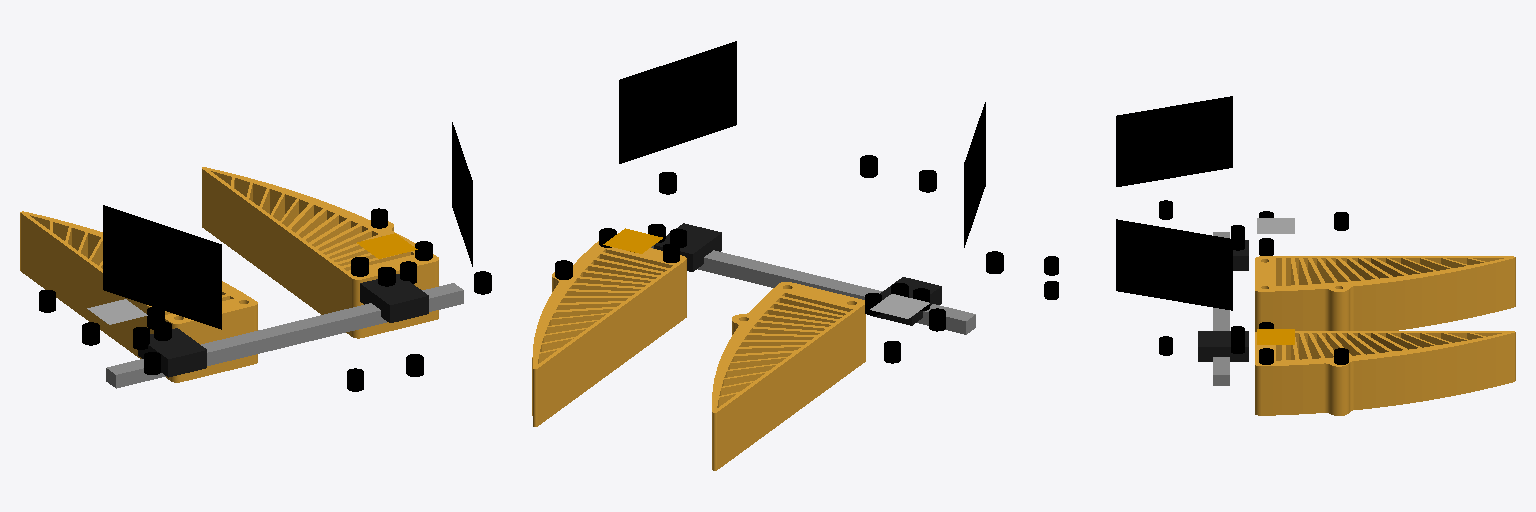
robot.urdf — umi_gripper:
<?xml version="1.0"?>
<robot name="umi_gripper">
  <material name="mirror">
    <color rgba="0 0 0 1"/>
  </material>
  <material name="white">
    <color rgba="1 1 1 1"/>
  </material>
  <material name="gray">
    <color rgba="0.15 0.15 0.15 1"/>
  </material>
  <material name="light_gray">
    <color rgba="0.6 0.6 0.6 1"/>
  </material>
  <material name="orange">
    <color rgba="0.92 0.68 0.24 1"/>
  </material>
  <material name="black">
    <color rgba="0 0 0 1"/>
  </material>
  <link name="world">
  </link>
  <link name="body1">
    <visual name="linear_guide_rail">
      <origin xyz="0 -0.002 0.062" rpy="0 0 0"/>
      <geometry>
        <box size="0.16 0.006 0.008"/>
      </geometry>
      <material name="light_gray"/>
    </visual>
    <visual name="left_mirror">
      <origin xyz="-0.069 -0.057 0.04" rpy="0 1.1901519891862662 0"/>
      <geometry>
        <box size="0.06 0.0374 0.0002"/>
      </geometry>
      <material name="mirror"/>
    </visual>
    <visual name="right_mirror">
      <origin xyz="0.069 -0.057 0.04" rpy="0 -1.1901519891862662 0"/>
      <geometry>
        <box size="0.06 0.0374 0.0002"/>
      </geometry>
      <material name="mirror"/>
    </visual>
    <visual>
      <geometry>
        <mesh filename="meshes/base_link.stl"/>
      </geometry>
      <material name="white"/>
    </visual>
    <visual name="left_center_base_screw">
      <origin xyz="-0.076 -0.018 0.036" rpy="-1.5707963267948968 0 0"/>
      <geometry>
        <cylinder radius="0.0035" length="0.007"/>
      </geometry>
      <material name="black"/>
    </visual>
    <visual name="right_center_base_screw">
      <origin xyz="0.076 -0.018 0.036" rpy="-1.5707963267948968 0 0"/>
      <geometry>
        <cylinder radius="0.0035" length="0.007"/>
      </geometry>
      <material name="black"/>
    </visual>
    <visual name="left_back_base_screw">
      <origin xyz="-0.0137 -0.018 -0.018" rpy="-1.5707963267948968 0 0"/>
      <geometry>
        <cylinder radius="0.0035" length="0.007"/>
      </geometry>
      <material name="black"/>
    </visual>
    <visual name="right_back_base_screw">
      <origin xyz="0.0137 -0.018 -0.018" rpy="-1.5707963267948968 0 0"/>
      <geometry>
        <cylinder radius="0.0035" length="0.007"/>
      </geometry>
      <material name="black"/>
    </visual>
    <visual>
      <origin xyz="0.01965 -0.07875 -0.0187" rpy="-1.5707963267948968 0 3.141592653589793"/>
      <geometry>
        <mesh filename="meshes/gopro.stl"/>
      </geometry>
      <material name="gray"/>
    </visual>
    <collision>
      <geometry>
        <mesh filename="meshes/base_link.stl"/>
      </geometry>
    </collision>
    <collision>
      <origin xyz="0.01965 -0.07875 -0.0187" rpy="-1.5707963267948968 0 3.141592653589793"/>
      <geometry>
        <mesh filename="meshes/gopro.stl"/>
      </geometry>
    </collision>
  </link>
  <link name="body1_dof1">
  </link>
  <link name="body1_dof2">
  </link>
  <link name="body1_dof3">
  </link>
  <link name="body1_dof4">
  </link>
  <link name="body1_dof5">
  </link>
  <link name="left_finger_holder">
    <inertial>
      <origin xyz="-0.0613355 0.104073 -0.0013157" rpy="-1.1769009428563746 -1.3849810823943285 2.651450192417947"/>
      <mass value="0.080081"/>
      <inertia ixx="0.000104597" ixy="0" ixz="0" iyy="0.000102992" iyz="0" izz="0.0000190532"/>
    </inertial>
    <visual name="left_screw_back_outside">
      <origin xyz="-0.0515 0.07 0.012" rpy="0 0 0"/>
      <geometry>
        <cylinder radius="0.0035" length="0.007"/>
      </geometry>
      <material name="black"/>
    </visual>
    <visual name="left_screw_back_inside">
      <origin xyz="-0.0615 0.07 0.012" rpy="0 0 0"/>
      <geometry>
        <cylinder radius="0.0035" length="0.007"/>
      </geometry>
      <material name="black"/>
    </visual>
    <visual name="left_screw_middle_outside">
      <origin xyz="-0.0768 0.0835 0.012" rpy="0 0 0"/>
      <geometry>
        <cylinder radius="0.0035" length="0.007"/>
      </geometry>
      <material name="black"/>
    </visual>
    <visual name="left_screw_middle_inside">
      <origin xyz="-0.047 0.0835 0.012" rpy="0 0 0"/>
      <geometry>
        <cylinder radius="0.0035" length="0.007"/>
      </geometry>
      <material name="black"/>
    </visual>
    <visual name="left_screw_front">
      <origin xyz="-0.0764 0.119 0.012" rpy="0 0 0"/>
      <geometry>
        <cylinder radius="0.0035" length="0.007"/>
      </geometry>
      <material name="black"/>
    </visual>
    <visual name="left_rail_block">
      <origin xyz="-0.051 0.063 0.006" rpy="0 0 0"/>
      <geometry>
        <box size="0.018 0.024 0.008"/>
      </geometry>
      <material name="gray"/>
    </visual>
    <visual name="left_marker">
      <origin xyz="-0.062 0.088 0.0164" rpy="0 0 0"/>
      <geometry>
        <box size="0.018 0.018 0.00002"/>
      </geometry>
    </visual>
    <visual>
      <geometry>
        <mesh filename="meshes/left_finger_holder.stl"/>
      </geometry>
      <material name="white"/>
    </visual>
    <visual>
      <origin xyz="-0.041722 0.0779 -0.0159" rpy="-1.5707963267948968 0 3.141592653589793"/>
      <geometry>
        <mesh filename="meshes/left_finger.stl"/>
      </geometry>
      <material name="orange"/>
    </visual>
    <collision>
      <geometry>
        <mesh filename="meshes/left_finger_holder.stl"/>
      </geometry>
    </collision>
    <collision>
      <origin xyz="-0.041722 0.0779 -0.0159" rpy="-1.5707963267948968 0 3.141592653589793"/>
      <geometry>
        <mesh filename="meshes/left_finger.stl"/>
      </geometry>
    </collision>
  </link>
  <link name="right_finger_holder">
    <inertial>
      <origin xyz="0.0613353 0.104073 -0.00131574" rpy="1.1769464976769313 -1.384964732758037 0.4901050283343764"/>
      <mass value="0.080081"/>
      <inertia ixx="0.000104597" ixy="0" ixz="0" iyy="0.000102992" iyz="0" izz="0.0000190532"/>
    </inertial>
    <visual name="right_screw_back_outside">
      <origin xyz="0.0515 0.07 0.012" rpy="0 0 0"/>
      <geometry>
        <cylinder radius="0.0035" length="0.007"/>
      </geometry>
      <material name="black"/>
    </visual>
    <visual name="right_screw_back_inside">
      <origin xyz="0.0615 0.07 0.012" rpy="0 0 0"/>
      <geometry>
        <cylinder radius="0.0035" length="0.007"/>
      </geometry>
      <material name="black"/>
    </visual>
    <visual name="right_screw_middle_outside">
      <origin xyz="0.0764 0.0835 0.012" rpy="0 0 0"/>
      <geometry>
        <cylinder radius="0.0035" length="0.007"/>
      </geometry>
      <material name="black"/>
    </visual>
    <visual name="right_screw_middle_inside">
      <origin xyz="0.047 0.0835 0.012" rpy="0 0 0"/>
      <geometry>
        <cylinder radius="0.0035" length="0.007"/>
      </geometry>
      <material name="black"/>
    </visual>
    <visual name="right_screw_front">
      <origin xyz="0.0764 0.119 0.012" rpy="0 0 0"/>
      <geometry>
        <cylinder radius="0.0035" length="0.007"/>
      </geometry>
      <material name="black"/>
    </visual>
    <visual name="right_rail_block">
      <origin xyz="0.051 0.063 0.006" rpy="0 0 0"/>
      <geometry>
        <box size="0.018 0.024 0.008"/>
      </geometry>
      <material name="gray"/>
    </visual>
    <visual name="right_marker">
      <origin xyz="0.062 0.088 0.0164" rpy="0 0 0"/>
      <geometry>
        <box size="0.018 0.018 0.00002"/>
      </geometry>
    </visual>
    <visual>
      <geometry>
        <mesh filename="meshes/right_finger_holder.stl"/>
      </geometry>
      <material name="white"/>
    </visual>
    <visual>
      <origin xyz="0.041722 0.0779 0.0099" rpy="1.5707963267948968 0 0"/>
      <geometry>
        <mesh filename="meshes/right_finger.stl"/>
      </geometry>
      <material name="orange"/>
    </visual>
    <collision>
      <geometry>
        <mesh filename="meshes/right_finger_holder.stl"/>
      </geometry>
    </collision>
    <collision>
      <origin xyz="0.041722 0.0779 0.0099" rpy="1.5707963267948968 0 0"/>
      <geometry>
        <mesh filename="meshes/right_finger.stl"/>
      </geometry>
    </collision>
  </link>
  <joint name="gripper_joint_x" type="prismatic">
    <origin xyz="0 0 0.11" rpy="-1.5707963267948968 0 0"/>
    <parent link="world"/>
    <child link="body1_dof1"/>
    <axis xyz="1 0 0"/>
    <limit lower="-1.2" upper="1.2" effort="0" velocity="0"/>
    <dynamics damping="0.1" friction="0.1"/>
  </joint>
  <joint name="gripper_joint_y" type="prismatic">
    <parent link="body1_dof1"/>
    <child link="body1_dof2"/>
    <axis xyz="0 0 1"/>
    <limit lower="-1.2" upper="1.2" effort="0" velocity="0"/>
    <dynamics damping="0.1" friction="0.1"/>
  </joint>
  <joint name="gripper_joint_z" type="prismatic">
    <parent link="body1_dof2"/>
    <child link="body1_dof3"/>
    <axis xyz="0 -1 0"/>
    <limit lower="-1.2" upper="1.2" effort="0" velocity="0"/>
    <dynamics damping="0.1" friction="0.1"/>
  </joint>
  <joint name="gripper_joint_rx" type="revolute">
    <parent link="body1_dof3"/>
    <child link="body1_dof4"/>
    <axis xyz="1 0 0"/>
    <limit lower="-31.415" upper="31.415" effort="0" velocity="0"/>
    <dynamics damping="10.1" friction="0.1"/>
  </joint>
  <joint name="gripper_joint_ry" type="revolute">
    <parent link="body1_dof4"/>
    <child link="body1_dof5"/>
    <axis xyz="0 0 1"/>
    <limit lower="-31.415" upper="31.415" effort="0" velocity="0"/>
    <dynamics damping="10.1" friction="0.1"/>
  </joint>
  <joint name="gripper_joint_rz" type="revolute">
    <parent link="body1_dof5"/>
    <child link="body1"/>
    <axis xyz="0 -1 0"/>
    <limit lower="-31.415" upper="31.415" effort="0" velocity="0"/>
    <dynamics damping="10.1" friction="0.1"/>
  </joint>
  <joint name="left_finger_joint" type="prismatic">
    <origin xyz="0 0 0" rpy="1.5707963267948968 0 0"/>
    <parent link="body1"/>
    <child link="left_finger_holder"/>
    <axis xyz="1 0 0"/>
    <limit lower="0" upper="0.05" effort="0" velocity="0"/>
    <dynamics damping="10.1" friction="0.1"/>
  </joint>
  <joint name="right_finger_joint" type="prismatic">
    <origin xyz="0 0 0" rpy="1.5707963267948968 0 0"/>
    <parent link="body1"/>
    <child link="right_finger_holder"/>
    <axis xyz="-1 0 0"/>
    <limit lower="0" upper="0.05" effort="0" velocity="0"/>
    <dynamics damping="10.1" friction="0.1"/>
  </joint>
</robot>

--- What the picture shows (computed from the rendered views, not written in the file) ---
The picture shows the robot from 3 angles, left to right: view 1: azimuth 30°, elevation 25°; view 2: azimuth 150°, elevation 25°; view 3: azimuth 270°, elevation 25°; orthographic projection.
Model umi_gripper with 9 links and 8 joints (3 revolute, 5 prismatic), rooted at world, posed every joint at zero.
Visible links, largest first — view 1: right_finger_holder, body1, left_finger_holder; view 2: left_finger_holder, right_finger_holder, body1; view 3: right_finger_holder, left_finger_holder, body1.
Link boxes in pixels (x1=…): right_finger_holder: x1=202, y1=167, x2=438, y2=338; body1: x1=103, y1=122, x2=491, y2=391; left_finger_holder: x1=20, y1=211, x2=257, y2=382; left_finger_holder: x1=712, y1=277, x2=945, y2=470; right_finger_holder: x1=532, y1=223, x2=721, y2=426; body1: x1=619, y1=41, x2=1003, y2=334; right_finger_holder: x1=1198, y1=322, x2=1515, y2=415; left_finger_holder: x1=1231, y1=211, x2=1515, y2=331; body1: x1=1044, y1=96, x2=1232, y2=385.
Bounding box of the posed robot: 0.162 × 0.2228 × 0.0916 m (x, y, z).
2 mesh visuals loaded from 6 distinct referenced files (2 binary STL); not drawn: 4 (reference not matched to a file when rendering).
